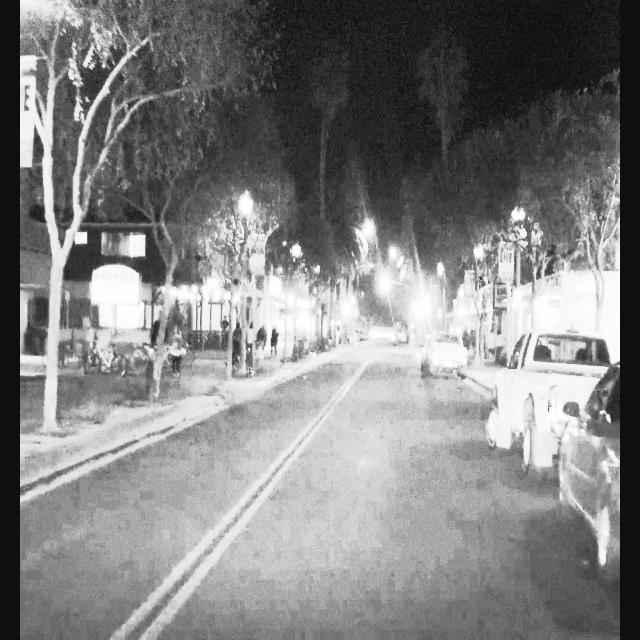Car: (484, 331, 607, 472), (558, 352, 621, 582)
Tree: (28, 4, 113, 440)
